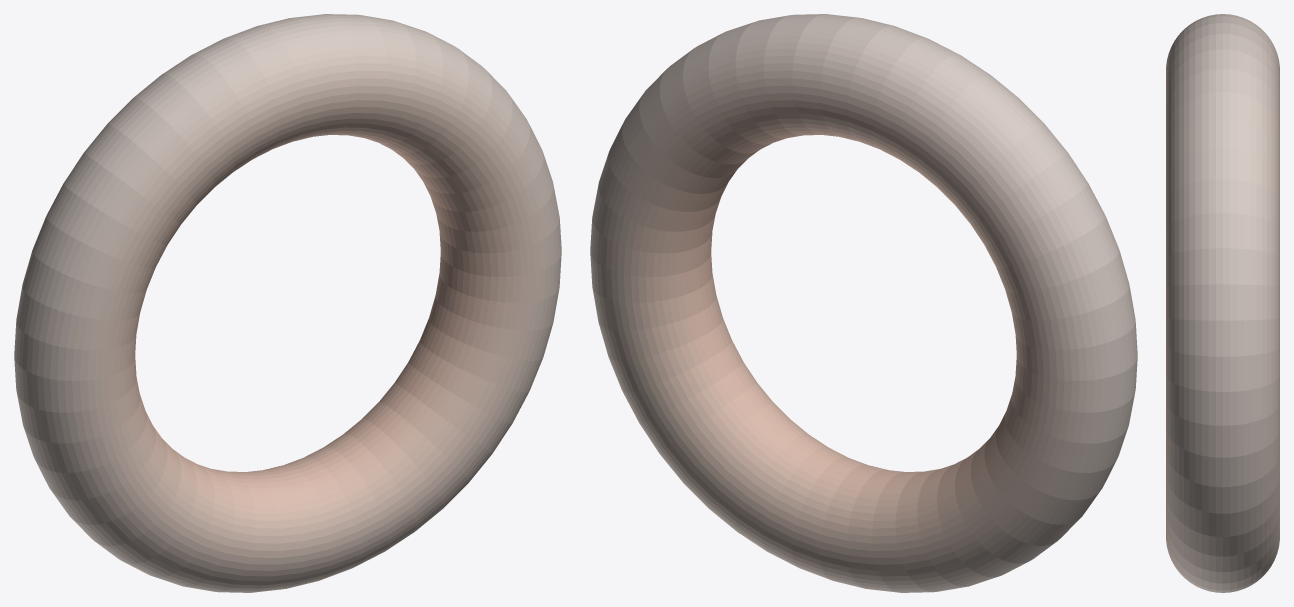
The picture shows the model from 3 angles, left to right: view 1: azimuth 30°, elevation 25°; view 2: azimuth 150°, elevation 25°; view 3: azimuth 270°, elevation 25°; orthographic projection. The views are drawn at different scales.
Parts seen in each view (by area): view 1: world; view 2: world; view 3: world.
Part boxes in pixels (x1,y1,x2,y2): world: (14,14,561,592); world: (590,14,1137,592); world: (1166,14,1279,592).
Bounding box in the file's own units: 29.07 × 29.01 × 5.72.
